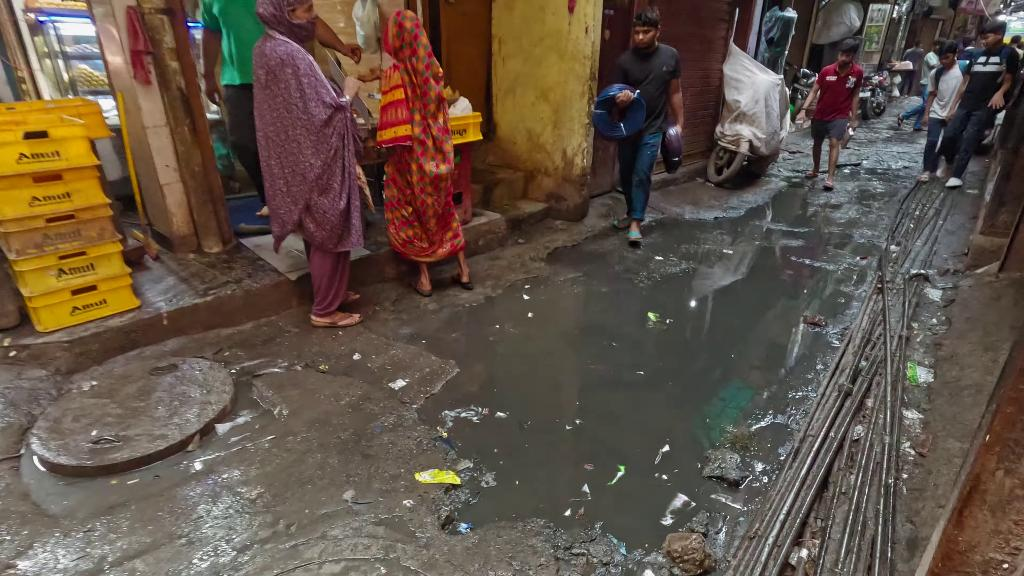garbage: (411, 465, 463, 487), (907, 359, 940, 387)
